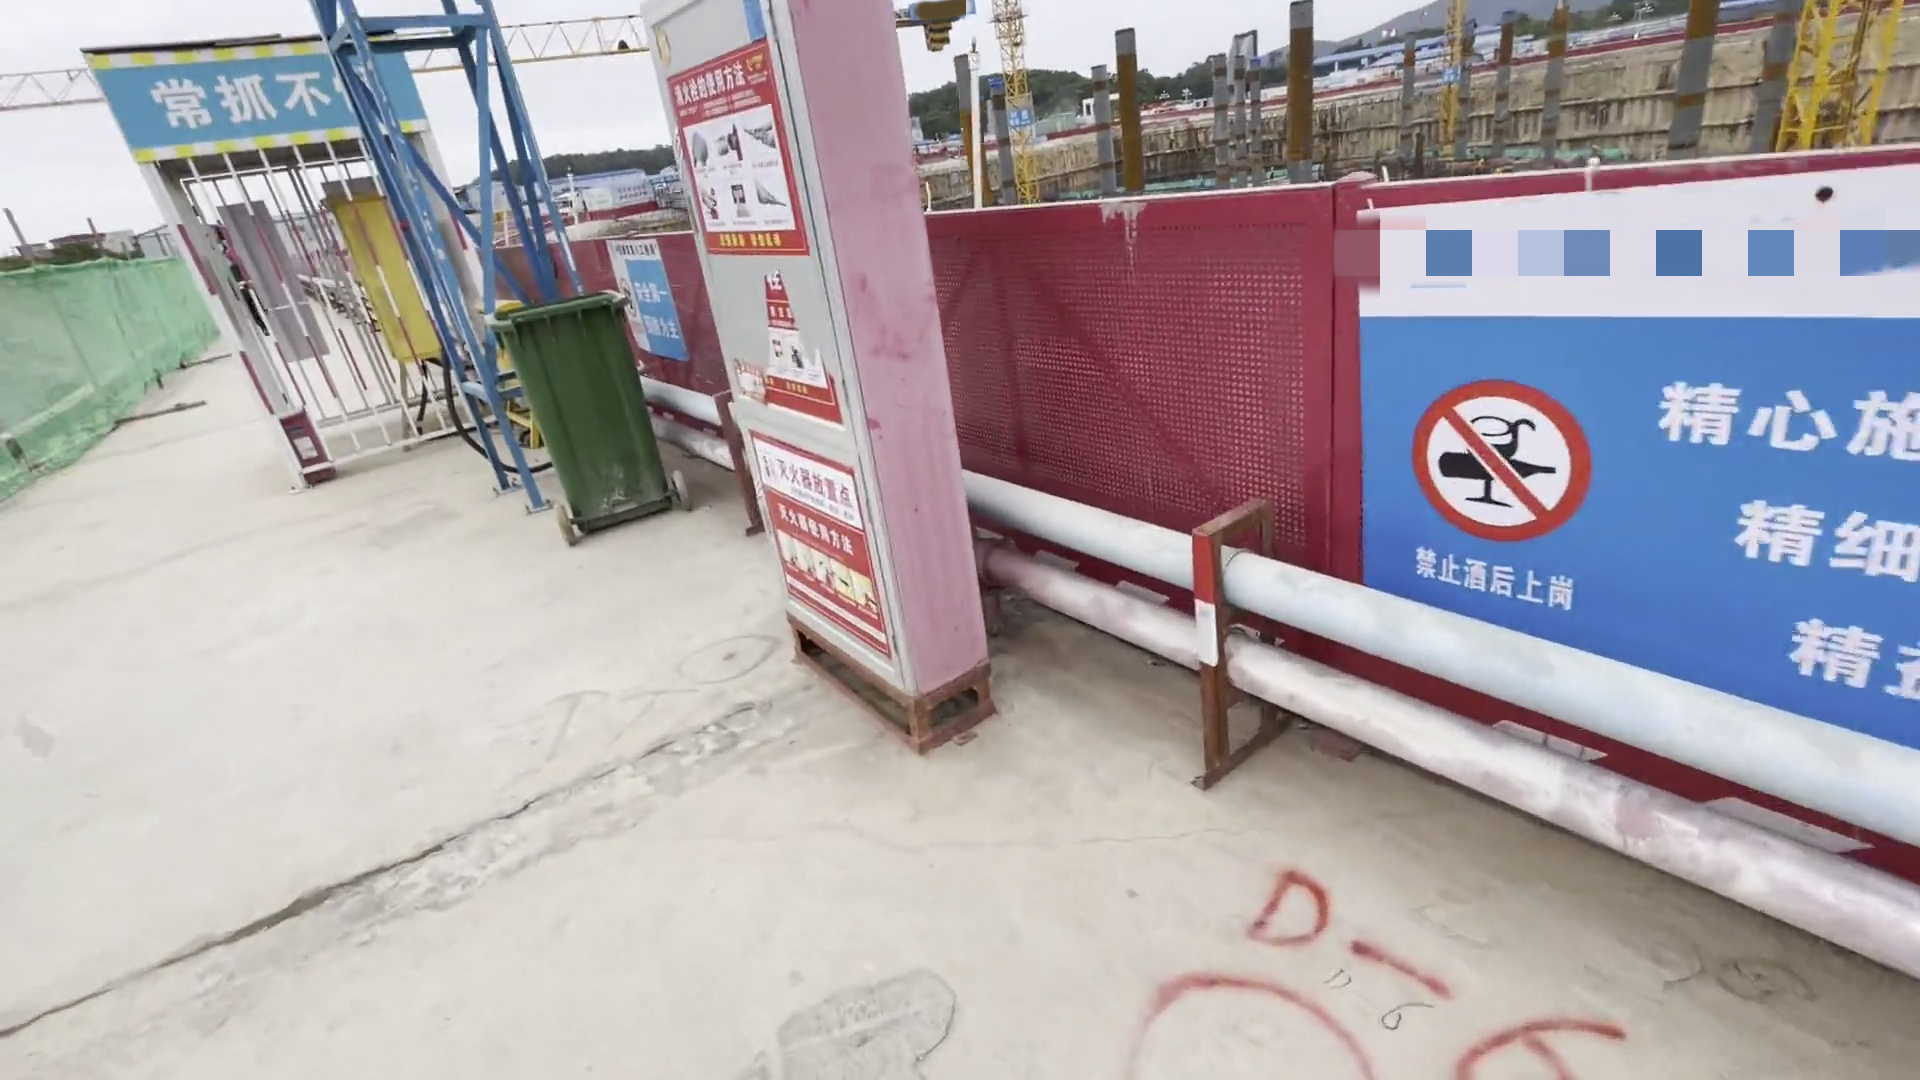ebox: (281, 187, 438, 365)
fence: (488, 237, 1360, 568)
slogan: (1364, 208, 1920, 707), (95, 59, 436, 135), (603, 241, 688, 361)
